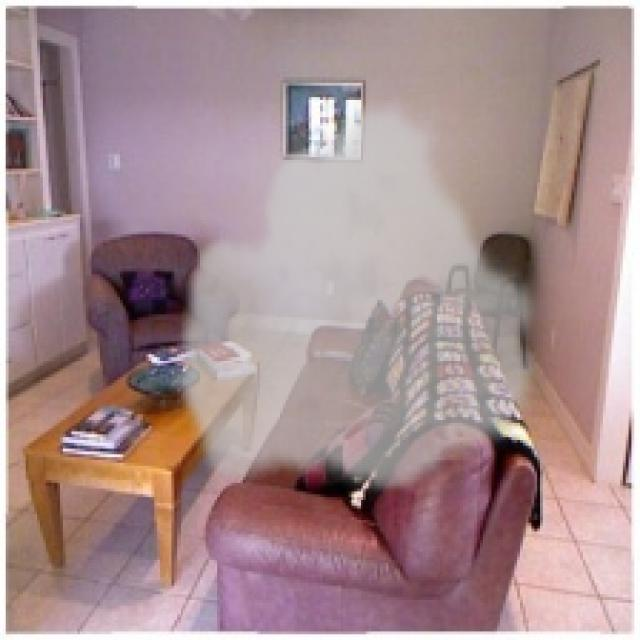smoke: (172, 92, 548, 497)
